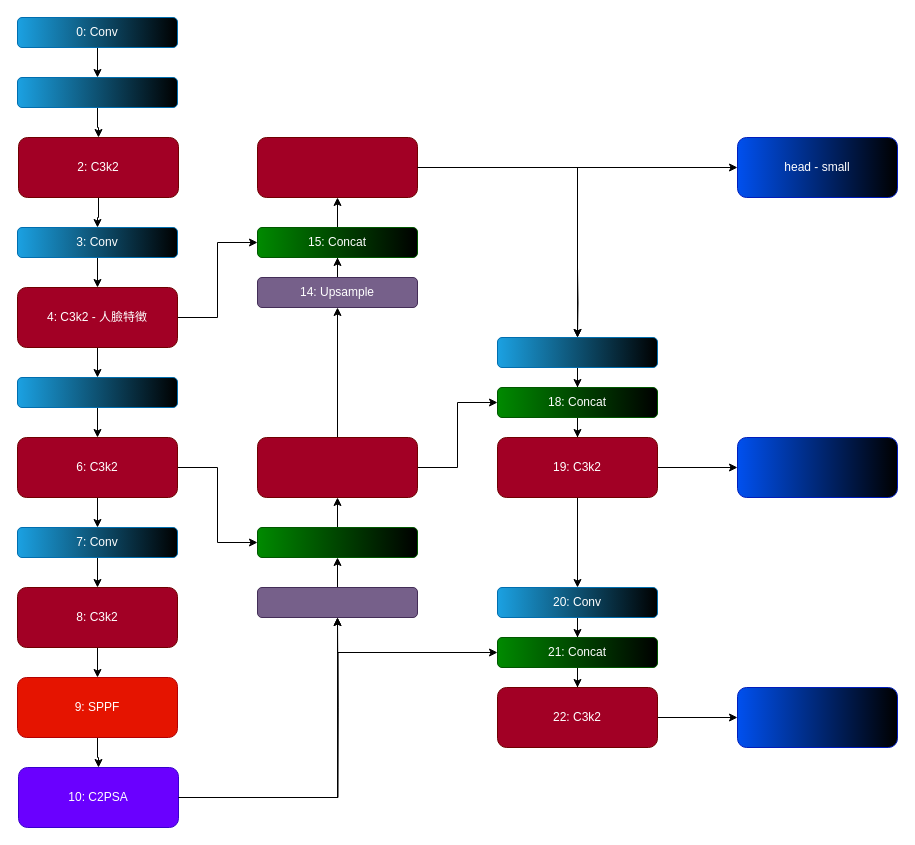
This 915x845 diagram has some shape labels left out. The centre of each missing label's shape, as x and y in pixels:
"11: Upsample" belongs at (x=337, y=602).
"12: Concat" belongs at (x=337, y=542).
"13: C3k2" belongs at (x=337, y=467).
"16: C3k2" belongs at (x=337, y=167).
"17: Conv" belongs at (x=577, y=352).
"1: Conv" belongs at (x=97, y=92).
"5: Conv" belongs at (x=97, y=392).
"head - large" belongs at (x=817, y=717).
"head - medium" belongs at (x=817, y=467).
